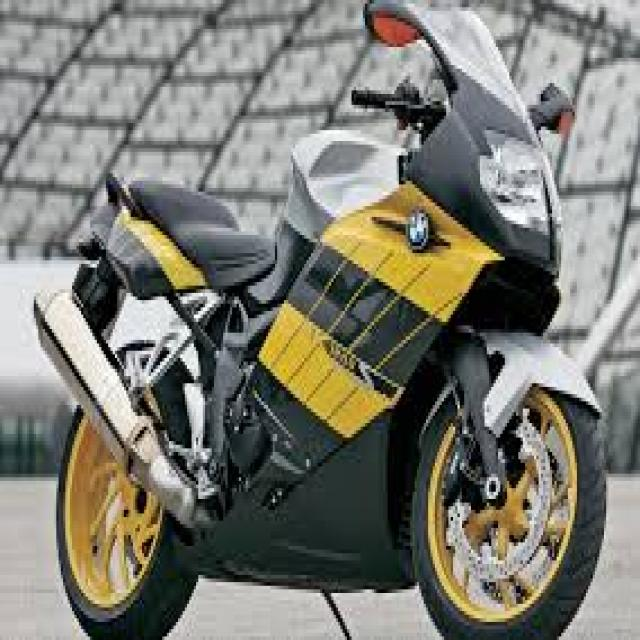Bike: (41, 0, 608, 640)
